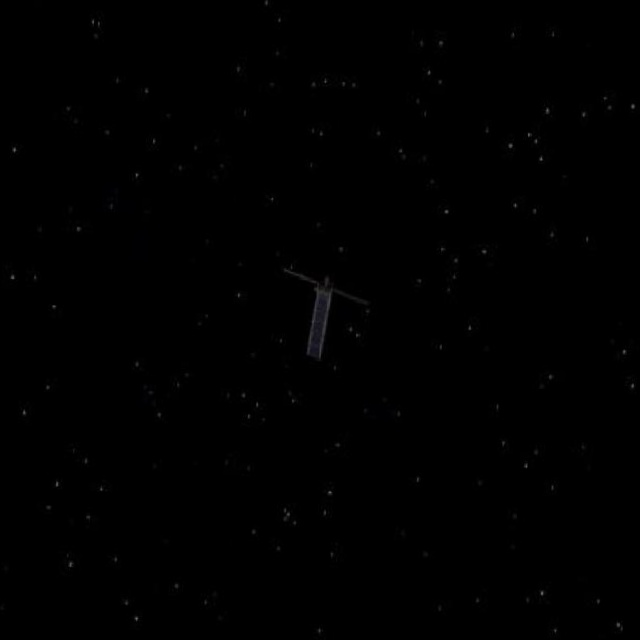medium_debris: (265, 257, 378, 370)
